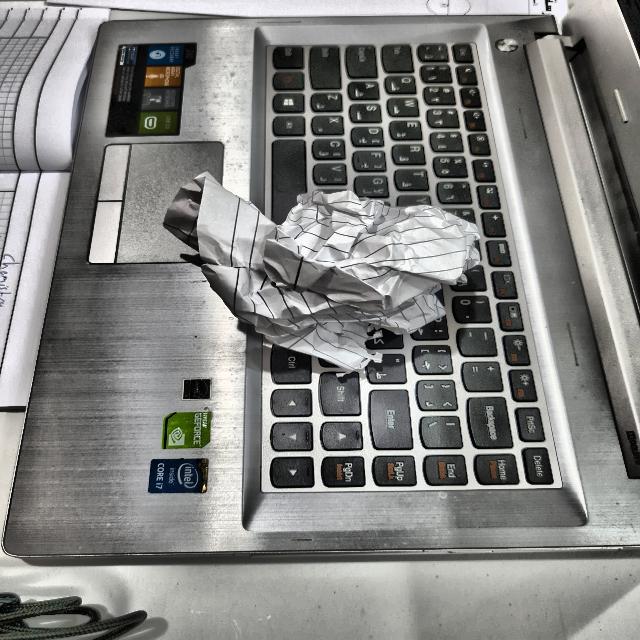Paper: (185, 185, 496, 362)
